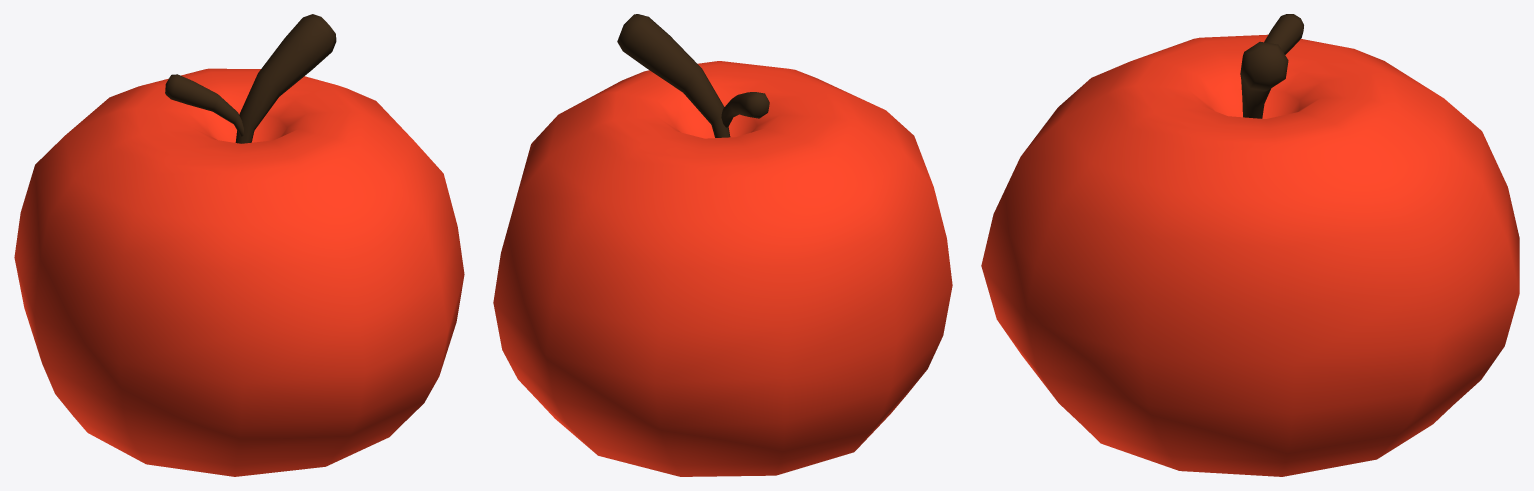
The model's file is Apple_Red.fbx.
3 renders of one model, left to right at view 1: azimuth 30°, elevation 25°; view 2: azimuth 150°, elevation 25°; view 3: azimuth 270°, elevation 25°, orthographic. The views are drawn at different scales.
Visible parts, largest first — view 1: Apple Red; view 2: Apple Red; view 3: Apple Red.
Boxes of the visible parts, x1,y1,x2,y2 form: Apple Red: [14, 14, 464, 476]; Apple Red: [493, 14, 952, 476]; Apple Red: [981, 14, 1519, 476].
Bounding box in the file's own units: 95.93 × 96.58 × 109.
